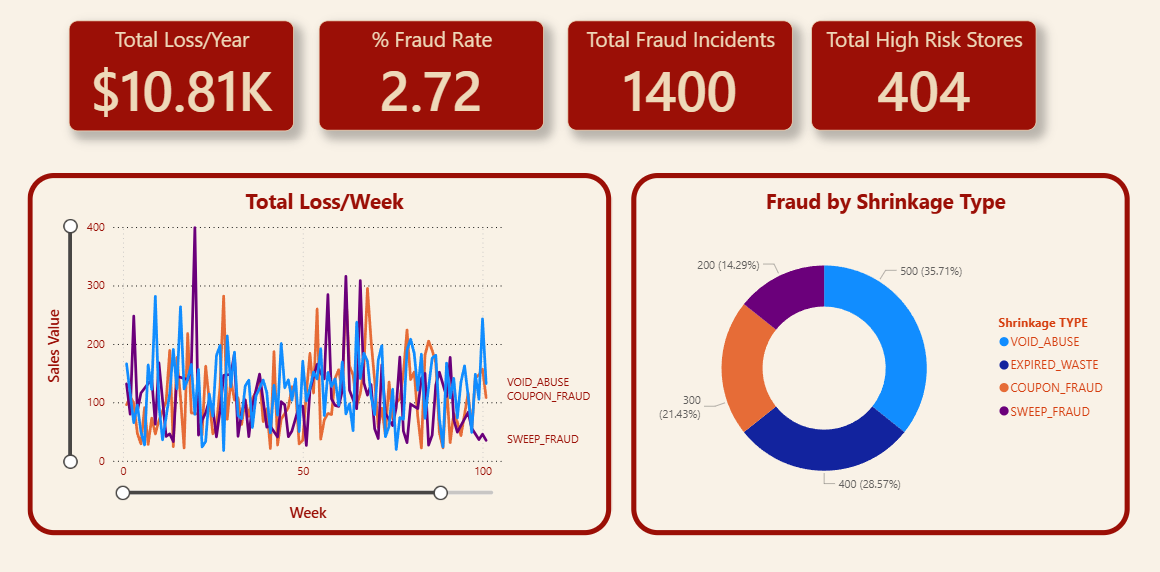

The page's visual inventory and layout, read from the dashboard file:
{"tool":"powerbi","page":{"name":"Executive Overview","canvas":[1280,720],"ordinal":0},"visuals":[{"type":"card","title":"Total Loss/Year","fields":{"Values":["fact_transactions.Est. Annual Loss"]},"box":[75.6,79.9,246.9,121.3],"z":0},{"type":"lineChart","title":"Total Loss/Week","fields":{"Category":["fact_transactions.WEEK_NO"],"Series":["fact_transactions.SHRINKAGE_TYPE"],"Y":["fact_transactions.Weekly Loss"]},"box":[30.2,247,640.8,397.9],"z":1000},{"type":"donutChart","fields":{"Category":["fact_transactions.SHRINKAGE_TYPE"],"Y":["CountNonNull(fact_transactions.IS_FRAUD)"]},"box":[746.5,270.3,494,318.4],"z":2000},{"type":"card","title":"% Fraud Rate","fields":{"Values":["fact_transactions.Fraud Rate %"]},"box":[349.9,79.6,247,120.8],"z":3000},{"type":"card","title":"Total Fraud Incidents","fields":{"Values":["fact_transactions.Total Fraud Incidents"]},"box":[623,79.6,247,120.8],"z":4000},{"type":"card","title":"Total High Risk Stores","fields":{"Values":["fact_transactions.High Risk Stores"]},"box":[890.6,79.6,247,120.8],"z":5000}]}

Visuals, with their boxes on the page's 1280x720 design canvas (x1, y1, x2, y2). These are canvas units, not pixel positions in the 1160x572 screenshot, which may show the page scaled, cropped or inside an application window:
"Total Loss/Year" card: pyautogui.locateOnScreen(76, 80, 322, 201)
"Total Loss/Week" lineChart: pyautogui.locateOnScreen(30, 247, 671, 645)
donutChart - fact_transactions.SHRINKAGE_TYPE x CountNonNull(fact_transactions.IS_FRAUD): pyautogui.locateOnScreen(746, 270, 1240, 589)
"% Fraud Rate" card: pyautogui.locateOnScreen(350, 80, 597, 200)
"Total Fraud Incidents" card: pyautogui.locateOnScreen(623, 80, 870, 200)
"Total High Risk Stores" card: pyautogui.locateOnScreen(891, 80, 1138, 200)
